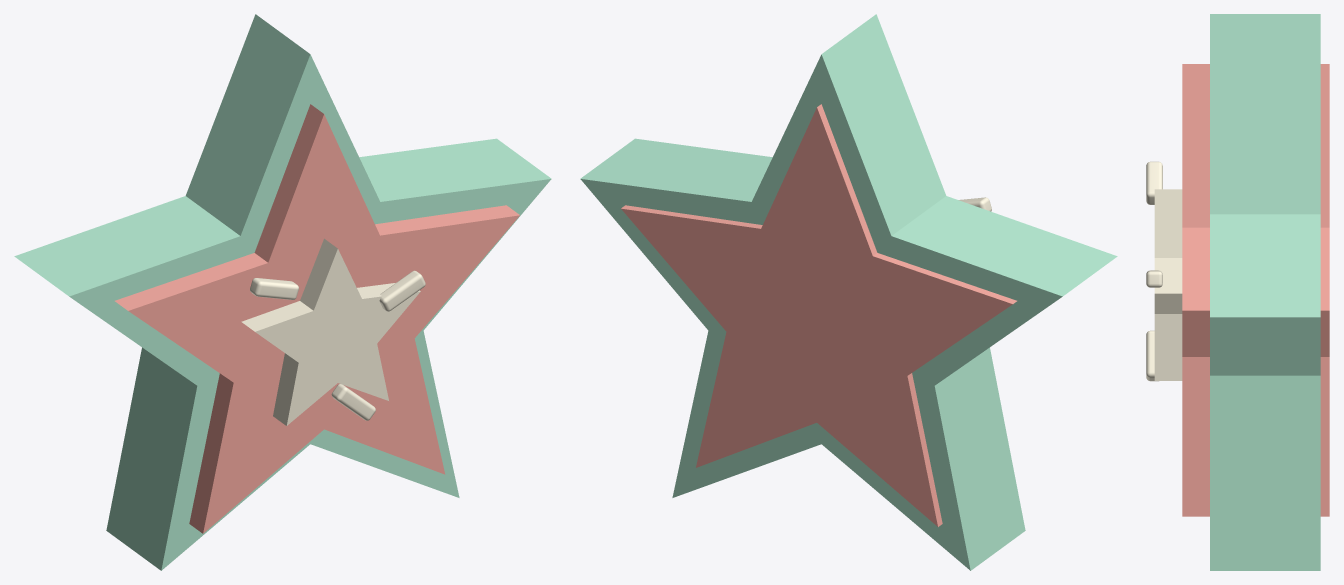
The model's file is star_candy_collectible.glb.
The picture shows the model from 3 angles, left to right: view 1: azimuth 30°, elevation 25°; view 2: azimuth 150°, elevation 25°; view 3: azimuth 270°, elevation 25°; orthographic projection.
Parts seen in each view (by area): view 1: MintStarRim, CoralStarBody, CreamStarInset, CreamSprinkle1, CreamSprinkle0, CreamSprinkle2; view 2: MintStarRim, CoralStarBody; view 3: MintStarRim, CoralStarBody, CreamStarInset, CreamSprinkle0, CreamSprinkle2, CreamSprinkle1.
Boxes of the visible parts, bbox=[...] form: MintStarRim: bbox=[14, 14, 551, 570]; CoralStarBody: bbox=[115, 104, 519, 533]; CreamStarInset: bbox=[241, 238, 420, 425]; CreamSprinkle1: bbox=[379, 270, 425, 311]; CreamSprinkle0: bbox=[250, 278, 298, 299]; CreamSprinkle2: bbox=[331, 384, 375, 420]; MintStarRim: bbox=[580, 14, 1117, 570]; CoralStarBody: bbox=[621, 104, 1016, 526]; MintStarRim: bbox=[1210, 14, 1320, 570]; CoralStarBody: bbox=[1182, 64, 1329, 516]; CreamStarInset: bbox=[1154, 189, 1182, 380]; CreamSprinkle0: bbox=[1146, 161, 1162, 204]; CreamSprinkle2: bbox=[1146, 330, 1158, 381]; CreamSprinkle1: bbox=[1146, 270, 1162, 287].
Bounding box in the file's own units: 0.6087 × 0.5789 × 0.199.
